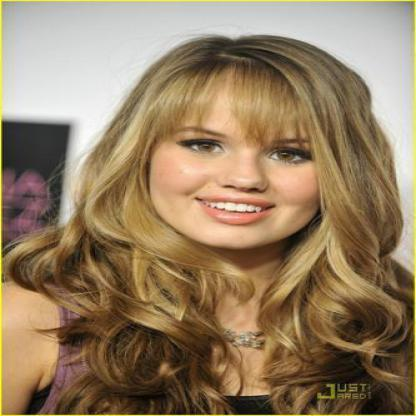long-hair: (18, 248, 410, 323)
